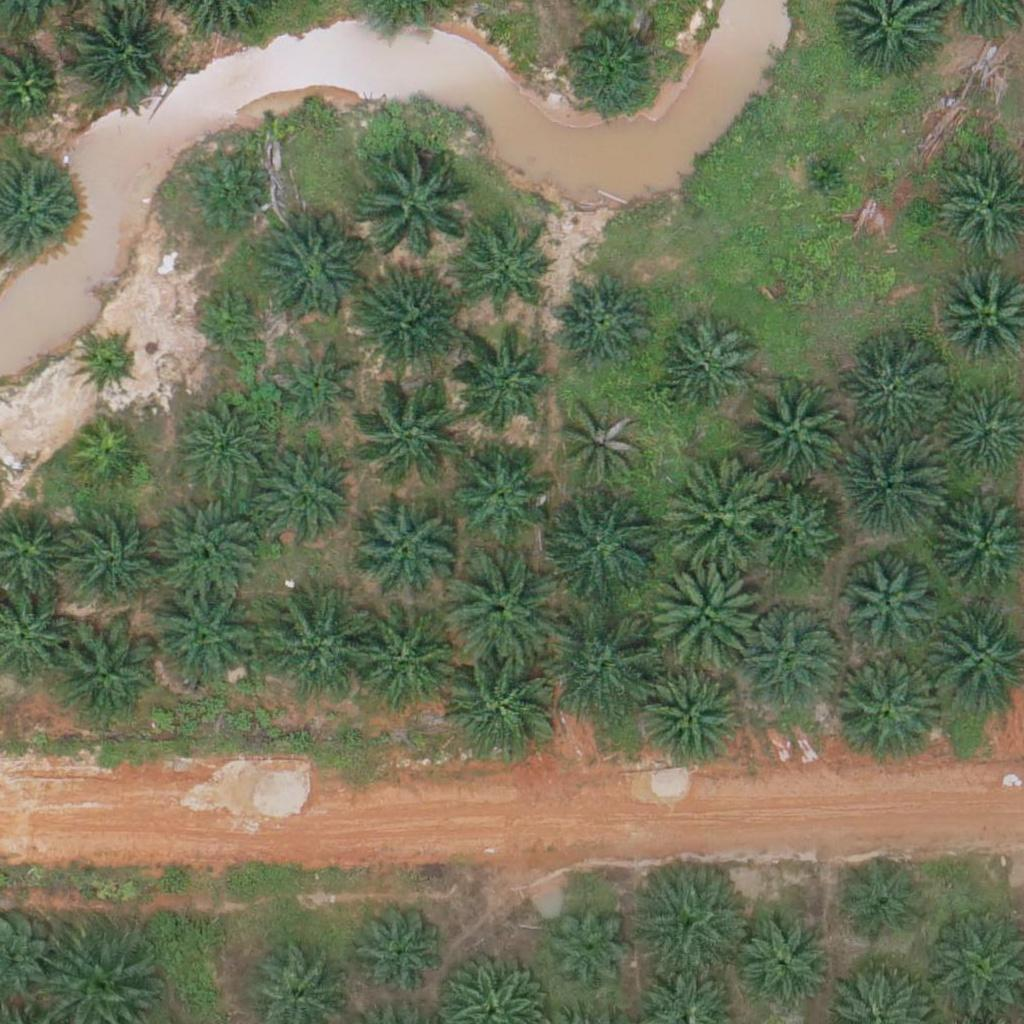Kelapa_Sawit: (834, 652, 947, 766), (833, 431, 946, 544), (445, 652, 558, 765), (358, 142, 471, 255), (252, 215, 365, 328), (150, 493, 263, 606), (147, 581, 260, 694), (49, 620, 162, 733), (633, 859, 745, 973), (357, 373, 469, 487), (255, 590, 367, 704), (738, 375, 850, 488), (661, 458, 773, 571), (648, 556, 760, 669), (550, 611, 662, 724), (546, 490, 658, 603), (444, 552, 556, 665), (345, 609, 457, 722), (348, 270, 460, 383), (349, 901, 449, 1002), (839, 561, 939, 662), (740, 605, 840, 706), (654, 316, 754, 417), (450, 336, 550, 437), (352, 498, 452, 599), (252, 449, 352, 550), (60, 515, 160, 616), (734, 906, 834, 1006), (842, 346, 942, 446), (639, 668, 739, 768), (560, 18, 660, 118), (551, 271, 651, 371), (450, 440, 550, 540), (67, 4, 167, 104), (175, 397, 275, 497), (838, 856, 926, 944), (750, 489, 838, 577), (275, 343, 363, 431), (180, 151, 268, 239), (550, 904, 637, 992), (560, 402, 647, 490), (462, 232, 549, 320), (192, 282, 267, 357), (68, 420, 143, 495), (77, 333, 140, 396), (797, 148, 847, 199)
